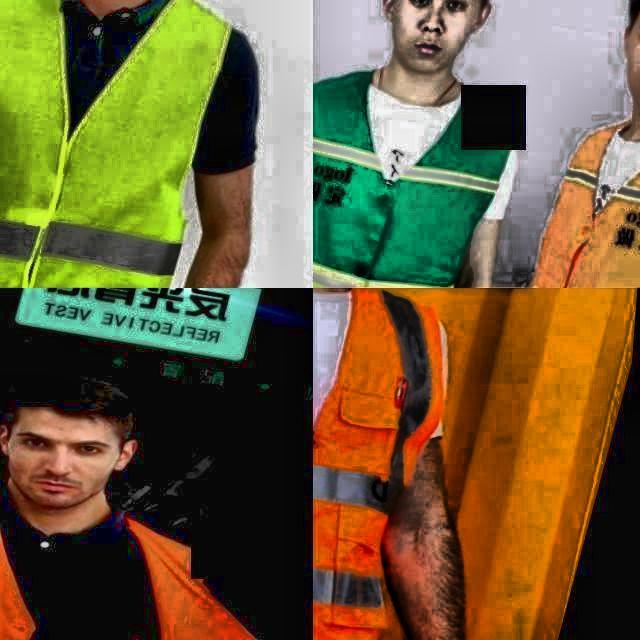safety_jacket: (0, 0, 252, 288), (313, 288, 475, 640), (313, 56, 515, 288), (499, 103, 640, 288)
